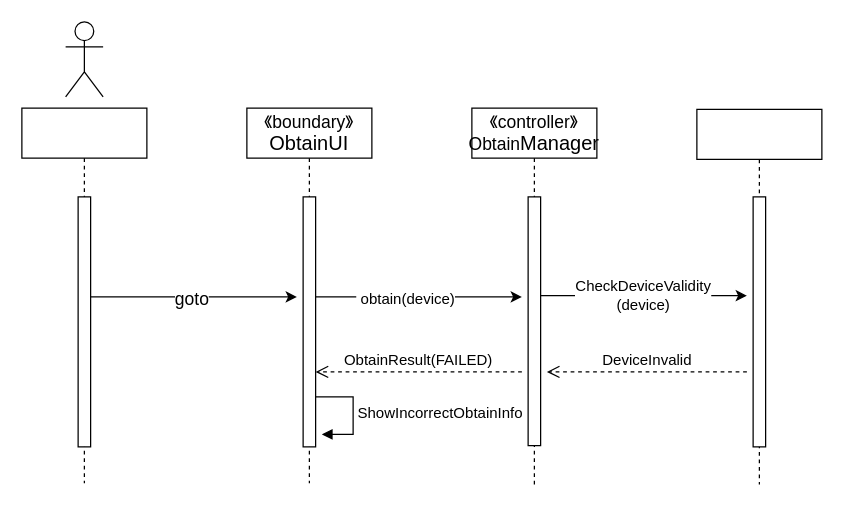
Image size: 844x506. Some labels were removed from this diagram. Each missing label, with the box of its shape:
User: (21, 107, 147, 483)
《entity》Device Library: (696, 108, 822, 484)
